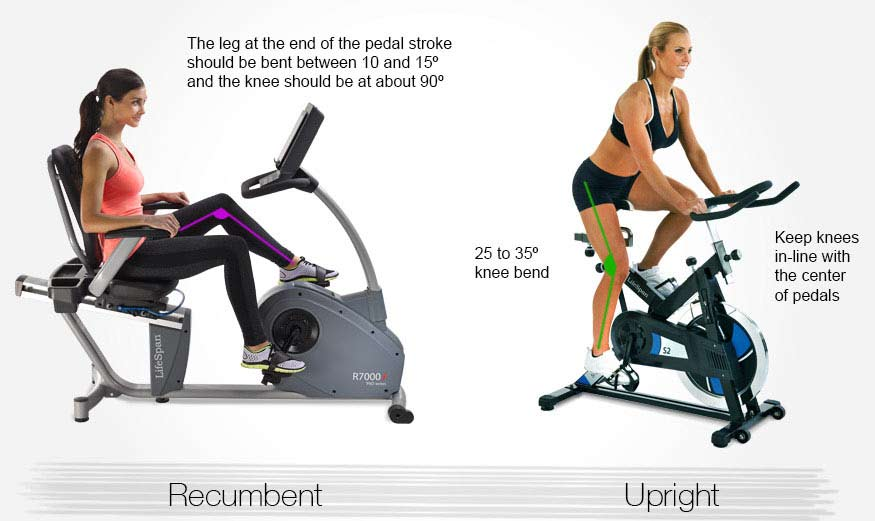gym_bike: (23, 104, 420, 420), (535, 183, 802, 446)
